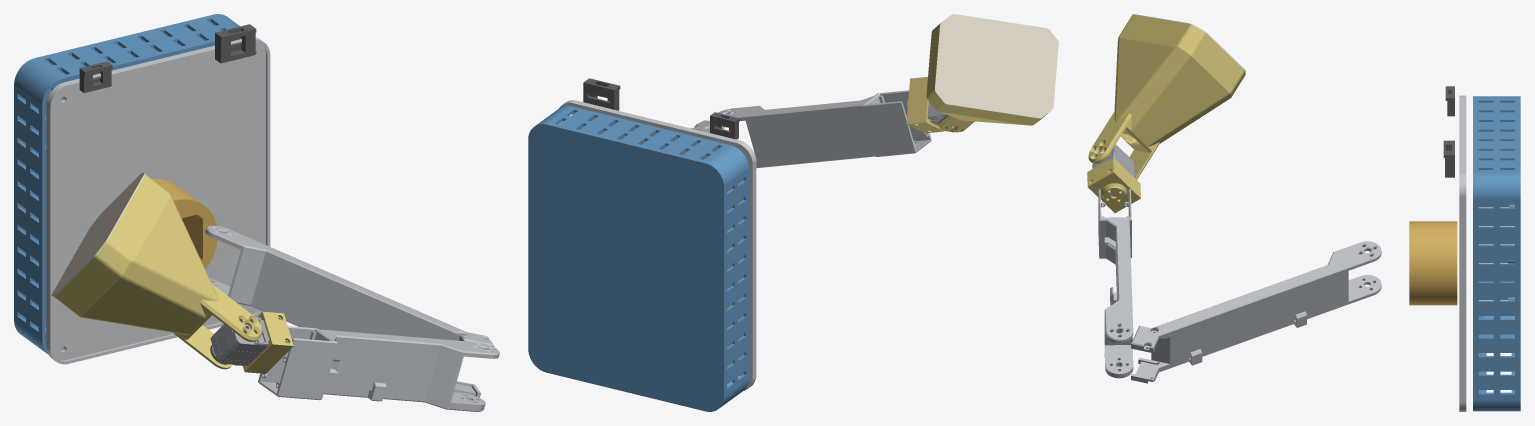
File: ailamp_full_assembly.glb
The picture shows the model from 3 angles, left to right: view 1: azimuth 30°, elevation 25°; view 2: azimuth 150°, elevation 25°; view 3: azimuth 270°, elevation 25°; orthographic projection. The views are drawn at different scales.
Visible parts, largest first — view 1: ailamp_integrated_base_cover_visual, lamphead, ailamp_integrated_base_shell_visual, lamparm__elbow_wrist, lamparm__base_elbow, diffuser, ailamp_base_arm_link_boot_visual, lamparm__wrist_head, ailamp_cable_clip_10mm_visual, ailamp_cable_clip_6mm_visual, xg_ziji_16, zk_122; view 2: ailamp_integrated_base_shell_visual, diffuser, lamparm__elbow_wrist, ailamp_integrated_base_cover_visual, lamphead, lamparm__wrist_head, ailamp_cable_clip_10mm_visual, ailamp_cable_clip_6mm_visual; view 3: ailamp_integrated_base_shell_visual, lamphead, lamparm__base_elbow, lamparm__elbow_wrist, ailamp_base_arm_link_boot_visual, ailamp_integrated_base_cover_visual, lamparm__wrist_head, ailamp_cable_clip_10mm_visual.
Boxes of the visible parts, bbox=[...] form: ailamp_integrated_base_cover_visual: bbox=[46, 37, 270, 364]; lamphead: bbox=[53, 174, 262, 369]; ailamp_integrated_base_shell_visual: bbox=[14, 14, 240, 353]; lamparm__elbow_wrist: bbox=[258, 326, 499, 411]; lamparm__base_elbow: bbox=[205, 225, 494, 397]; diffuser: bbox=[51, 172, 145, 297]; ailamp_base_arm_link_boot_visual: bbox=[152, 179, 217, 269]; lamparm__wrist_head: bbox=[243, 311, 293, 373]; ailamp_cable_clip_10mm_visual: bbox=[215, 24, 256, 63]; ailamp_cable_clip_6mm_visual: bbox=[79, 61, 112, 92]; xg_ziji_16: bbox=[223, 317, 269, 352]; zk_122: bbox=[214, 324, 260, 361]; ailamp_integrated_base_shell_visual: bbox=[528, 106, 748, 411]; diffuser: bbox=[934, 14, 1058, 118]; lamparm__elbow_wrist: bbox=[717, 90, 931, 168]; ailamp_integrated_base_cover_visual: bbox=[559, 100, 756, 390]; lamphead: bbox=[926, 23, 1049, 132]; lamparm__wrist_head: bbox=[906, 77, 944, 133]; ailamp_cable_clip_10mm_visual: bbox=[583, 78, 620, 110]; ailamp_cable_clip_6mm_visual: bbox=[710, 112, 739, 139]; ailamp_integrated_base_shell_visual: bbox=[1473, 96, 1520, 411]; lamphead: bbox=[1088, 15, 1244, 179]; lamparm__base_elbow: bbox=[1131, 241, 1381, 383]; lamparm__elbow_wrist: bbox=[1098, 189, 1133, 378]; ailamp_base_arm_link_boot_visual: bbox=[1409, 221, 1457, 305]; ailamp_integrated_base_cover_visual: bbox=[1459, 95, 1466, 411]; lamparm__wrist_head: bbox=[1087, 157, 1140, 212]; ailamp_cable_clip_10mm_visual: bbox=[1443, 140, 1454, 177].
Size of the model in its own units: 0.3651 by 0.2684 by 0.3815.
